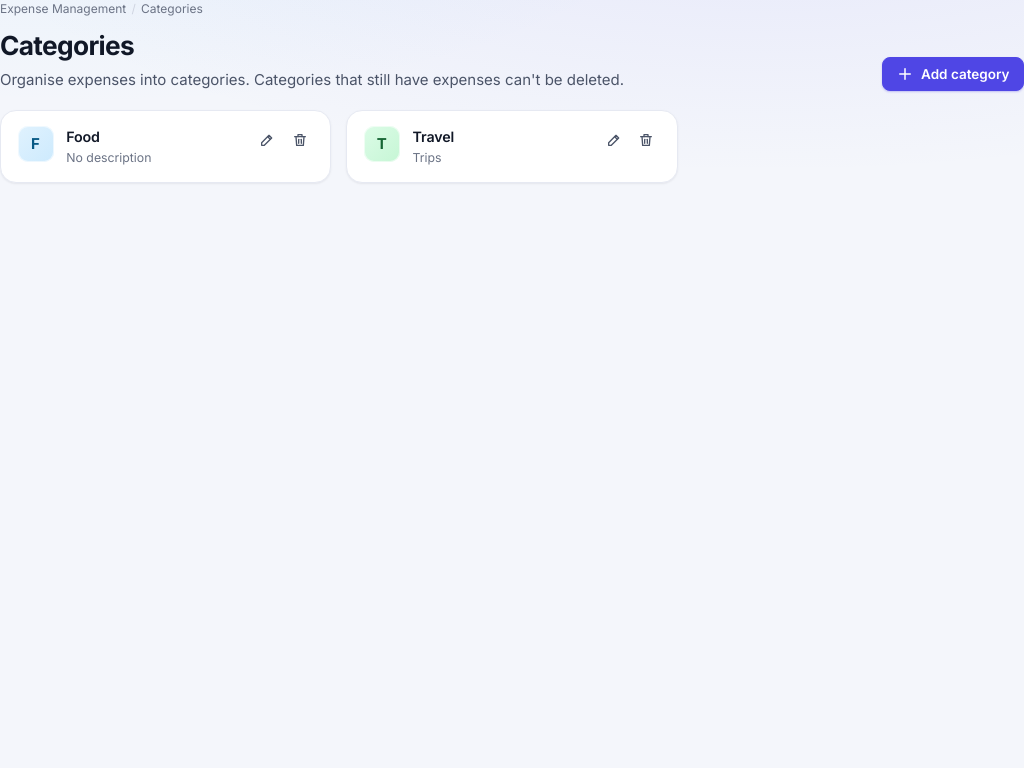
CategoriesPage › delete a category in use 409 → error toast explains why
The width and height of the screenshot is (1024, 768).
expect the heading "Food" is shown: met, box [66,128,100,145]
Step 1. Click the 2nd button named "Delete Food" → click(300, 140), box [285,126,314,154]
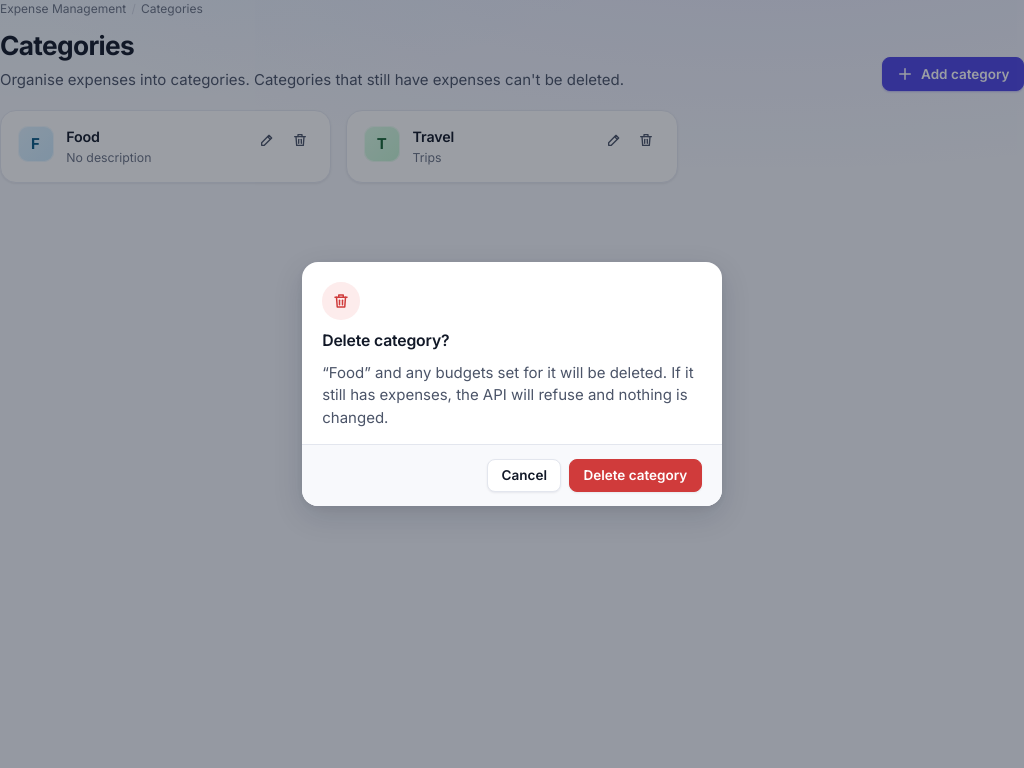
Step 2. Click the button "Delete category" → click(635, 476), box [569,459,702,492]
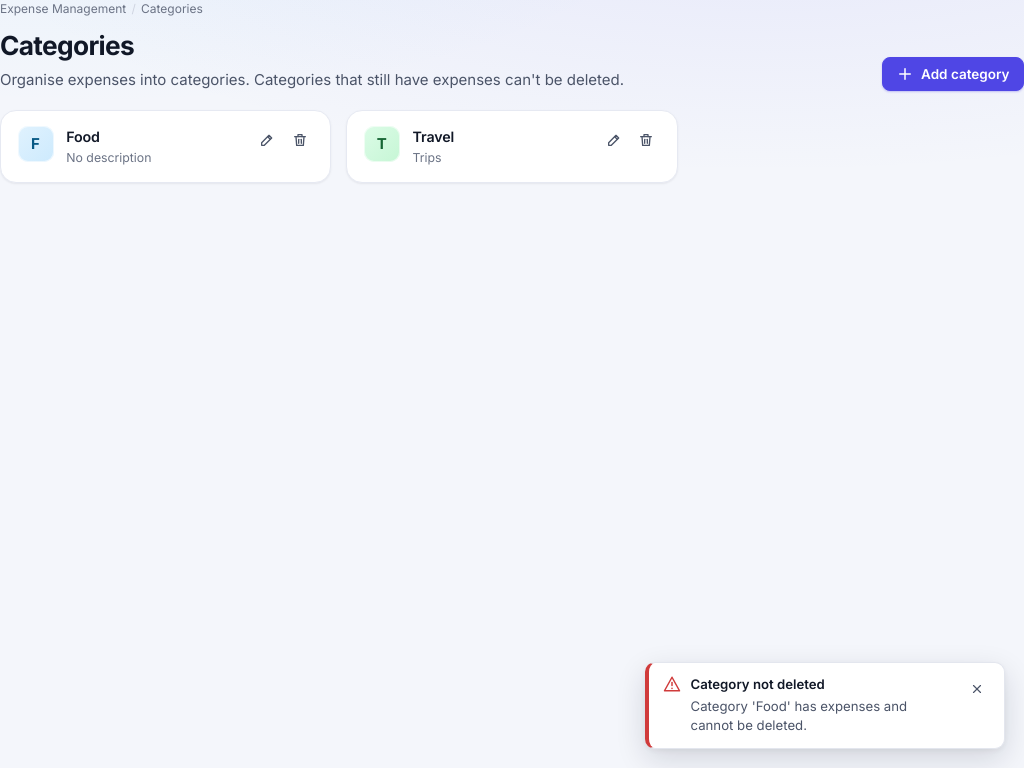
expect the message shows "Category 'Food' has expenses and cannot be deleted.": met, box [690,698,907,734]
